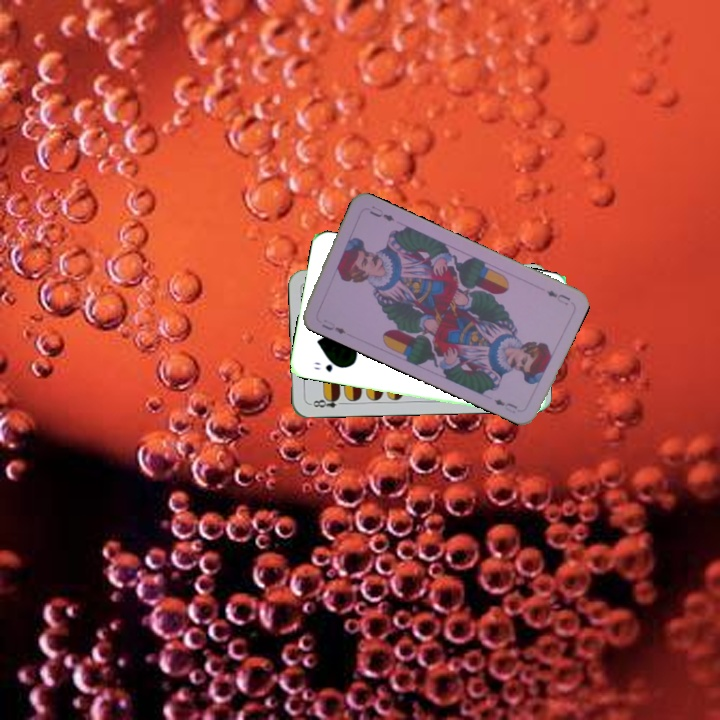E8: (306, 393, 347, 410)
EU: (317, 315, 348, 337), (543, 286, 573, 308)
GO: (310, 358, 345, 375)
